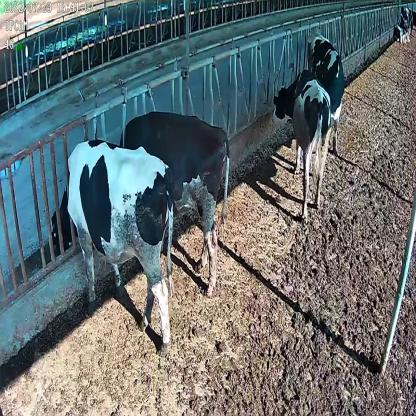cow: (50, 138, 174, 356), (120, 109, 231, 301), (273, 69, 331, 224), (307, 29, 344, 158)
